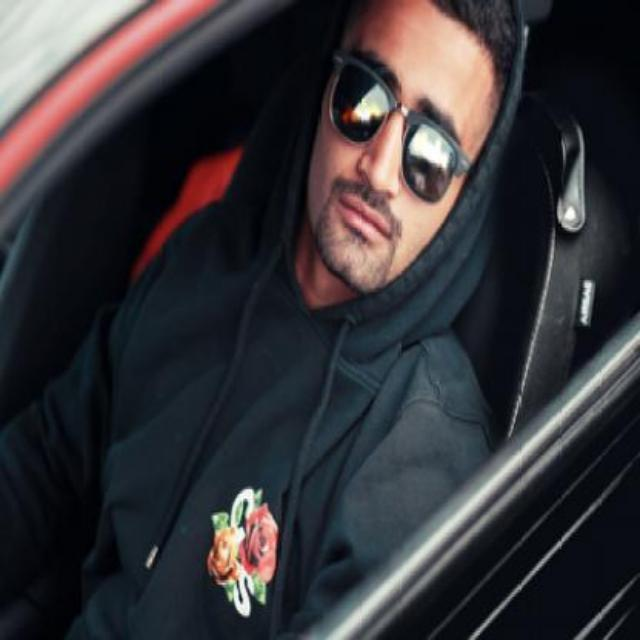glasses: (328, 48, 472, 202)
